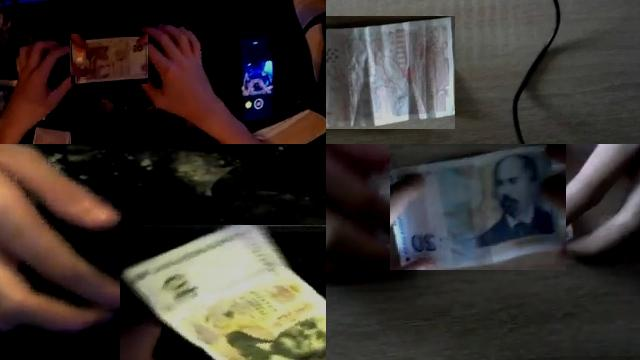10leva: (120, 225, 326, 360)
20leva: (390, 144, 566, 270)
50leva: (71, 34, 148, 84)
5leva: (326, 16, 455, 128)
